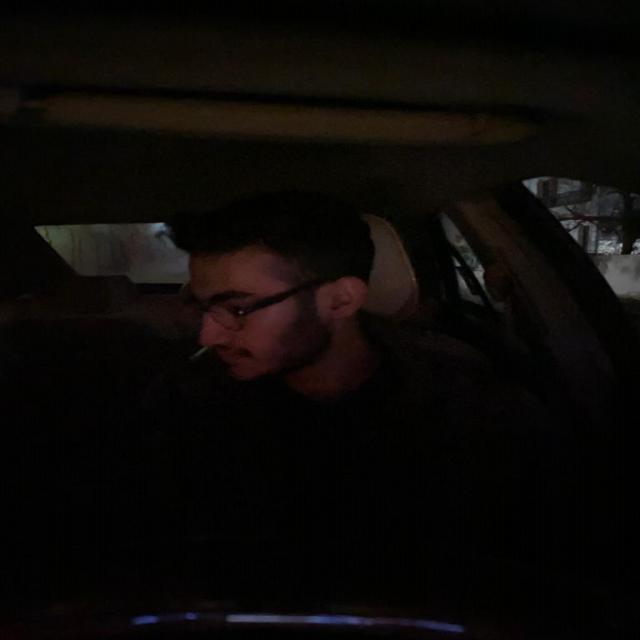drowsy: (167, 207, 370, 380)
